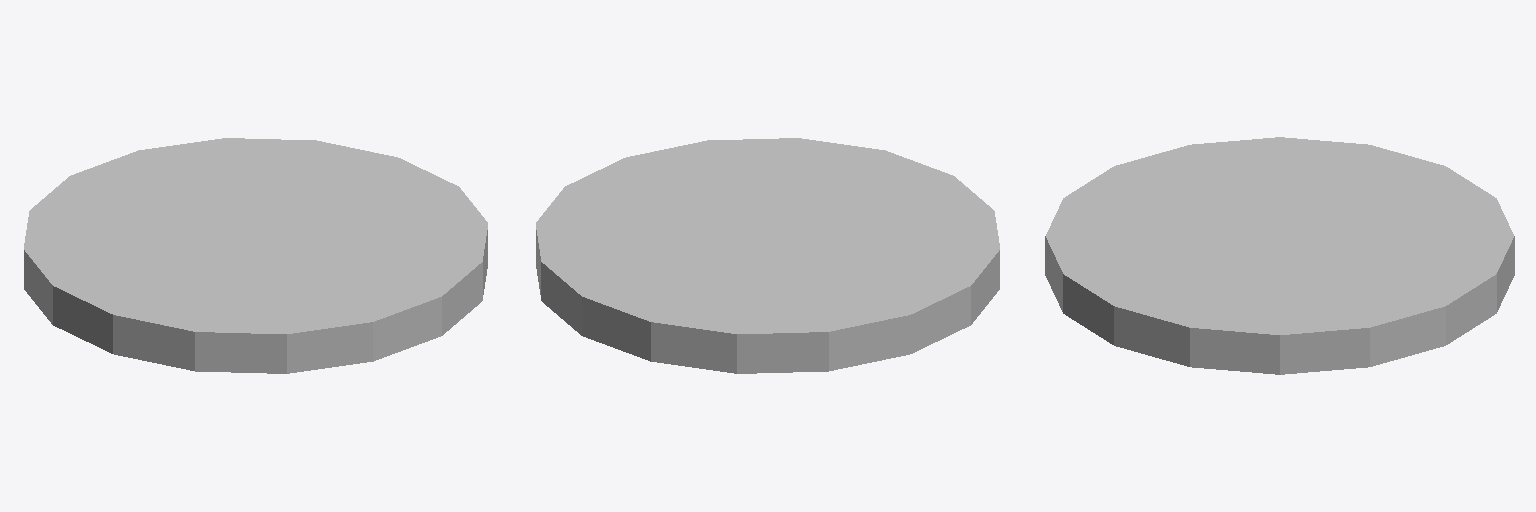
File: Coin_B__1.obj
3 renders of one model, left to right at view 1: azimuth 30°, elevation 25°; view 2: azimuth 150°, elevation 25°; view 3: azimuth 270°, elevation 25°, orthographic.
Parts seen in each view (by area): view 1: Cylinder1; view 2: Cylinder1; view 3: Cylinder1.
Boxes of the visible parts, x1=… form: Cylinder1: x1=24, y1=138, x2=487, y2=373; Cylinder1: x1=536, y1=138, x2=999, y2=373; Cylinder1: x1=1045, y1=137, x2=1514, y2=374.
Bounding box in the file's own units: 2.56 × 0.2387 × 2.56.